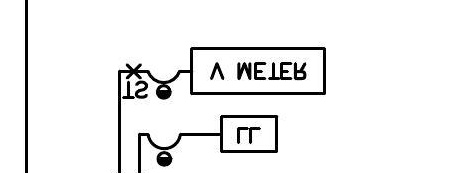LL: (219, 114, 279, 154)
v_m_digital: (189, 46, 327, 96)
